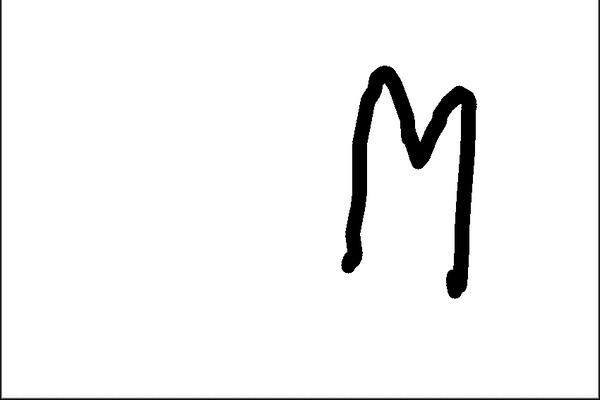M: (335, 67, 483, 302)
